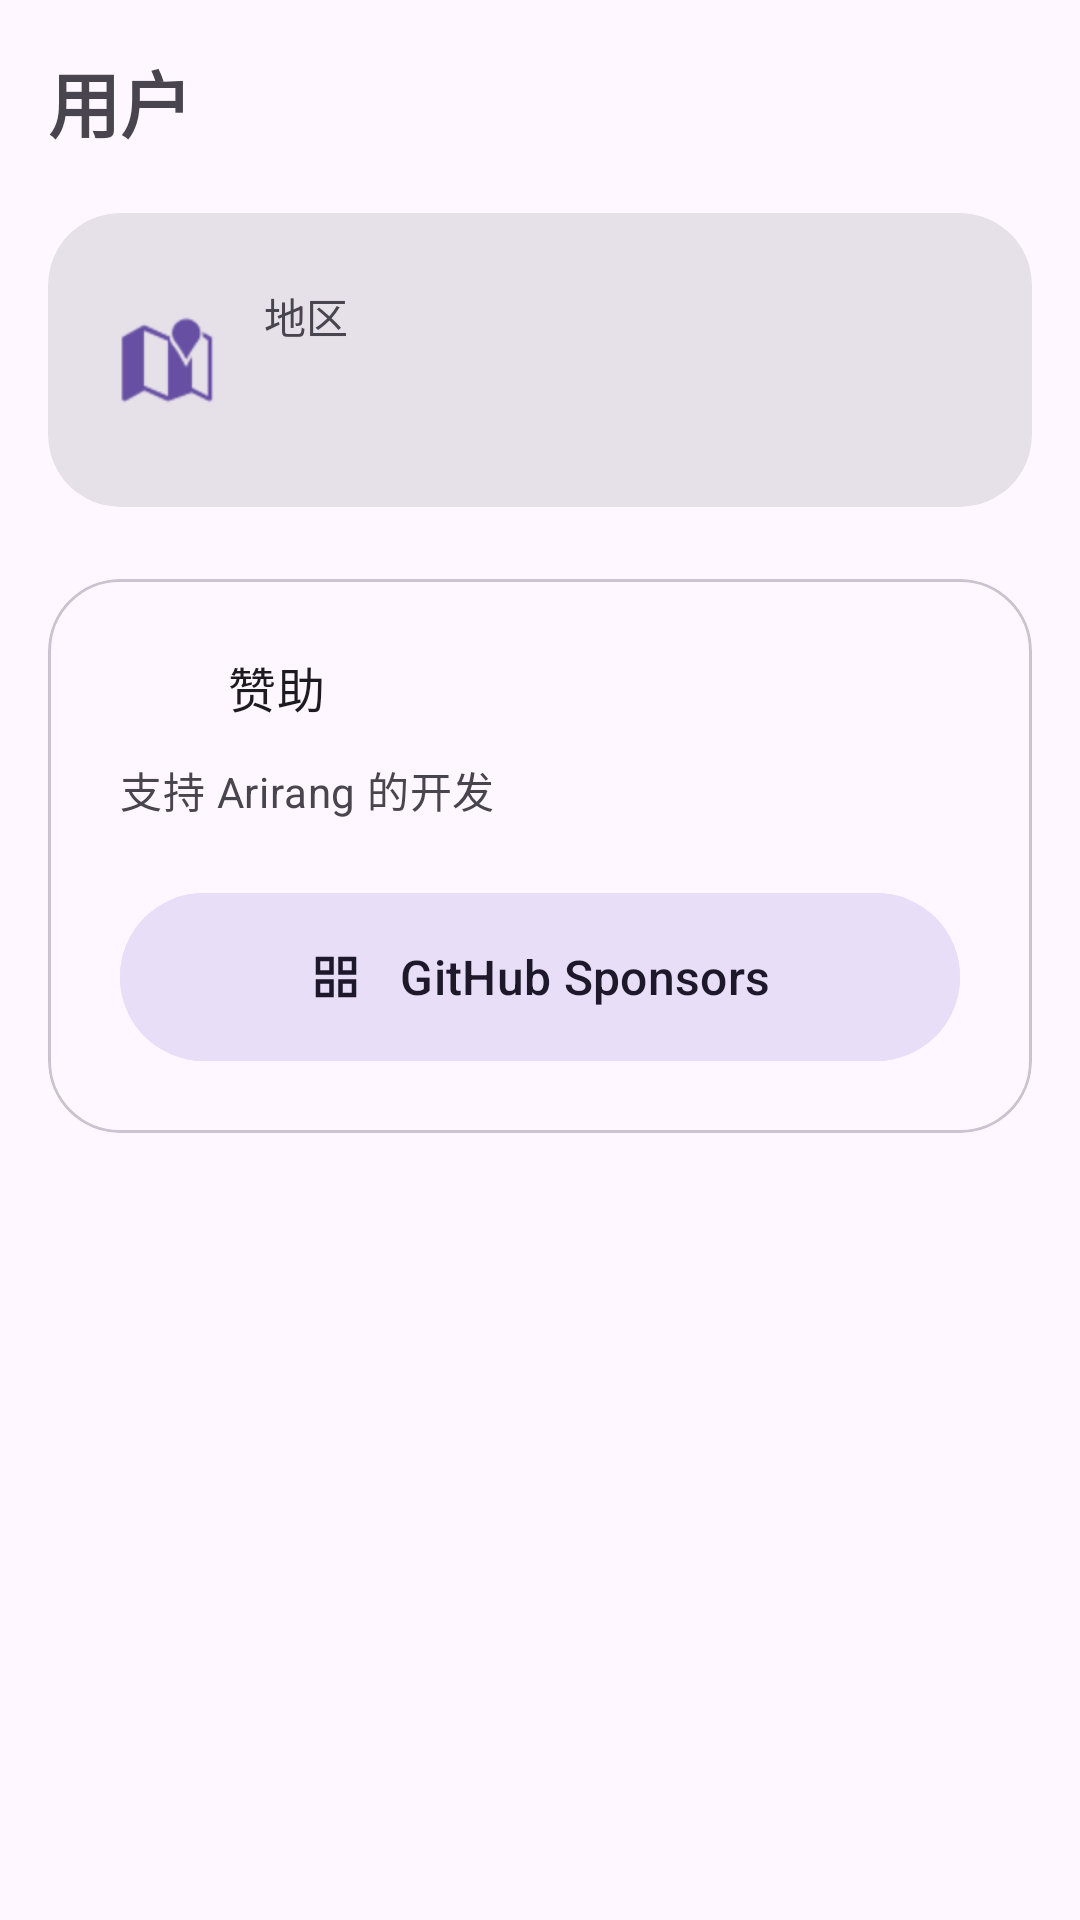

Icons on this 1080x1920 Android screen, each with its box as (x1, y1, x2, y2):
map: (121, 318, 213, 402)
